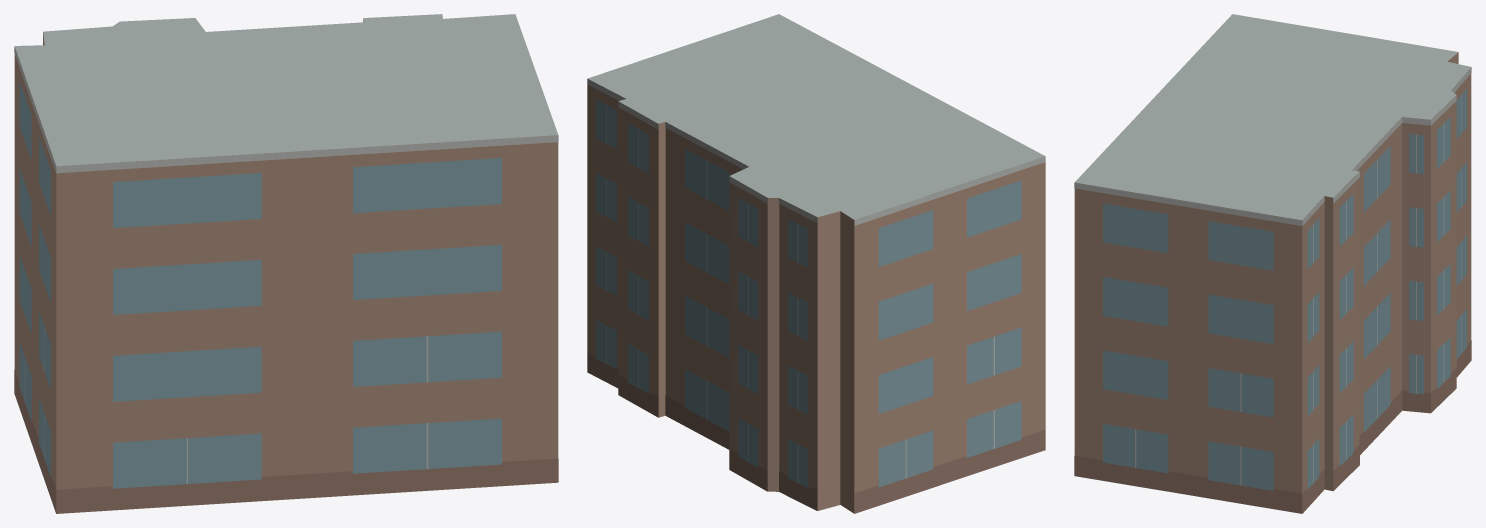
The model's file is survey-upis-32574467.glb.
The picture shows the model from 3 angles, left to right: view 1: azimuth 30°, elevation 25°; view 2: azimuth 150°, elevation 25°; view 3: azimuth 270°, elevation 25°; orthographic projection. The views are drawn at different scales.
Visible parts, largest first — view 1: survey-upis-32574467.tmp; view 2: survey-upis-32574467.tmp; view 3: survey-upis-32574467.tmp.
Part boxes in pixels (box(x1,y1,x2,y2)): survey-upis-32574467.tmp: box(14, 14, 558, 513); survey-upis-32574467.tmp: box(587, 14, 1045, 513); survey-upis-32574467.tmp: box(1074, 14, 1471, 513).
Size of the model in its own units: 18.4 by 12.2 by 14.96.
